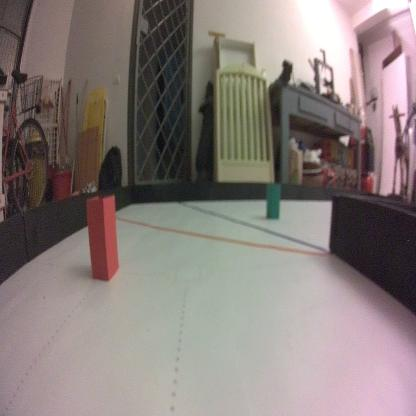red: (84, 192, 121, 282)
